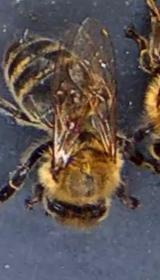varroa_mite: (61, 111, 80, 133)
